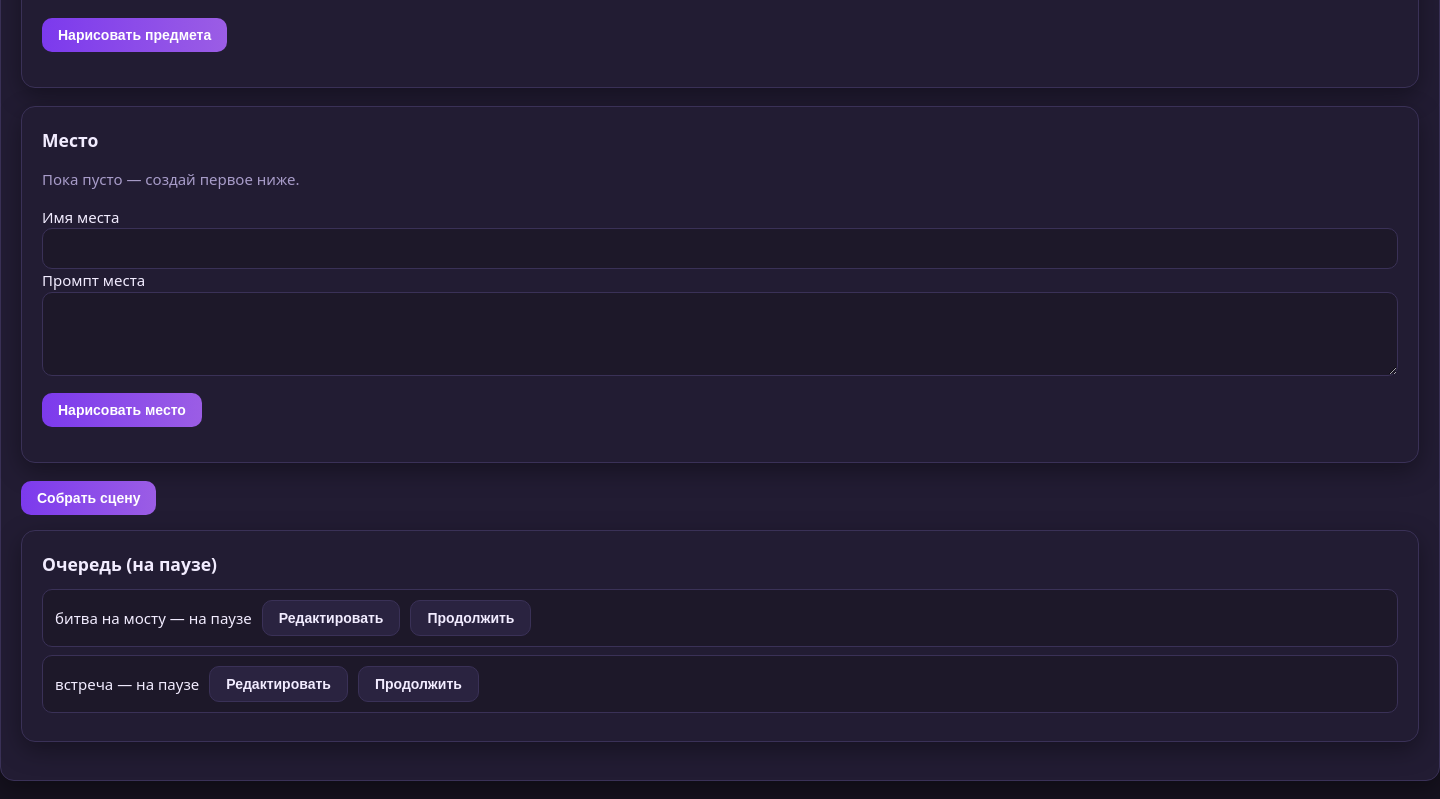
it: SceneComposer (cast + missing proposals + paused queue) › edits paused prompt and resumes generation after missing is drawn
The width and height of the screenshot is (1440, 799).
(page scrolled)
edit paused prompt
Click the button "Редактировать" in the row of "встреча" at point(279, 684), box [209,666,348,702]
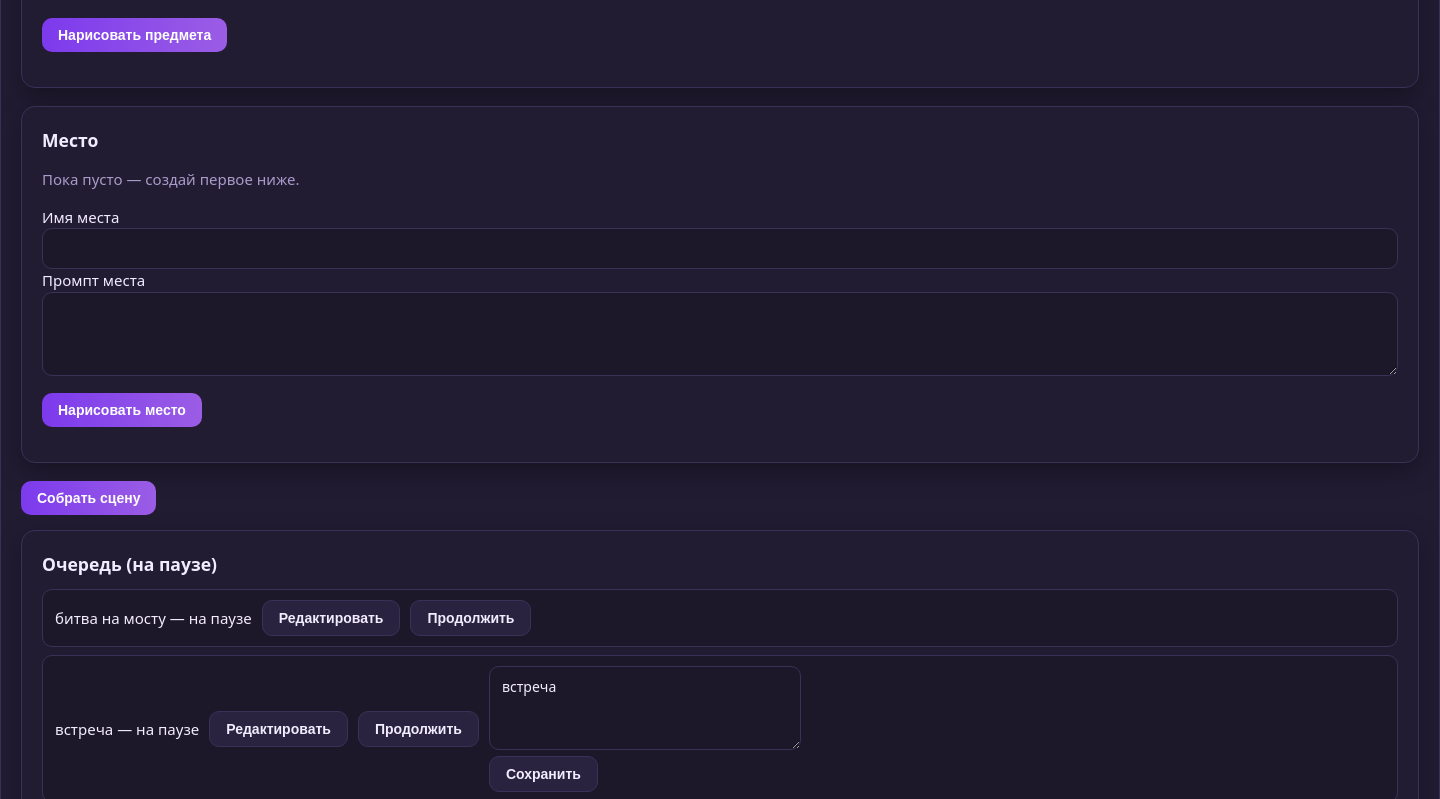
Replace the text in the text box named "редактировать промпт" with "встреча — ночь" at point(645, 708), box [489,666,801,750]
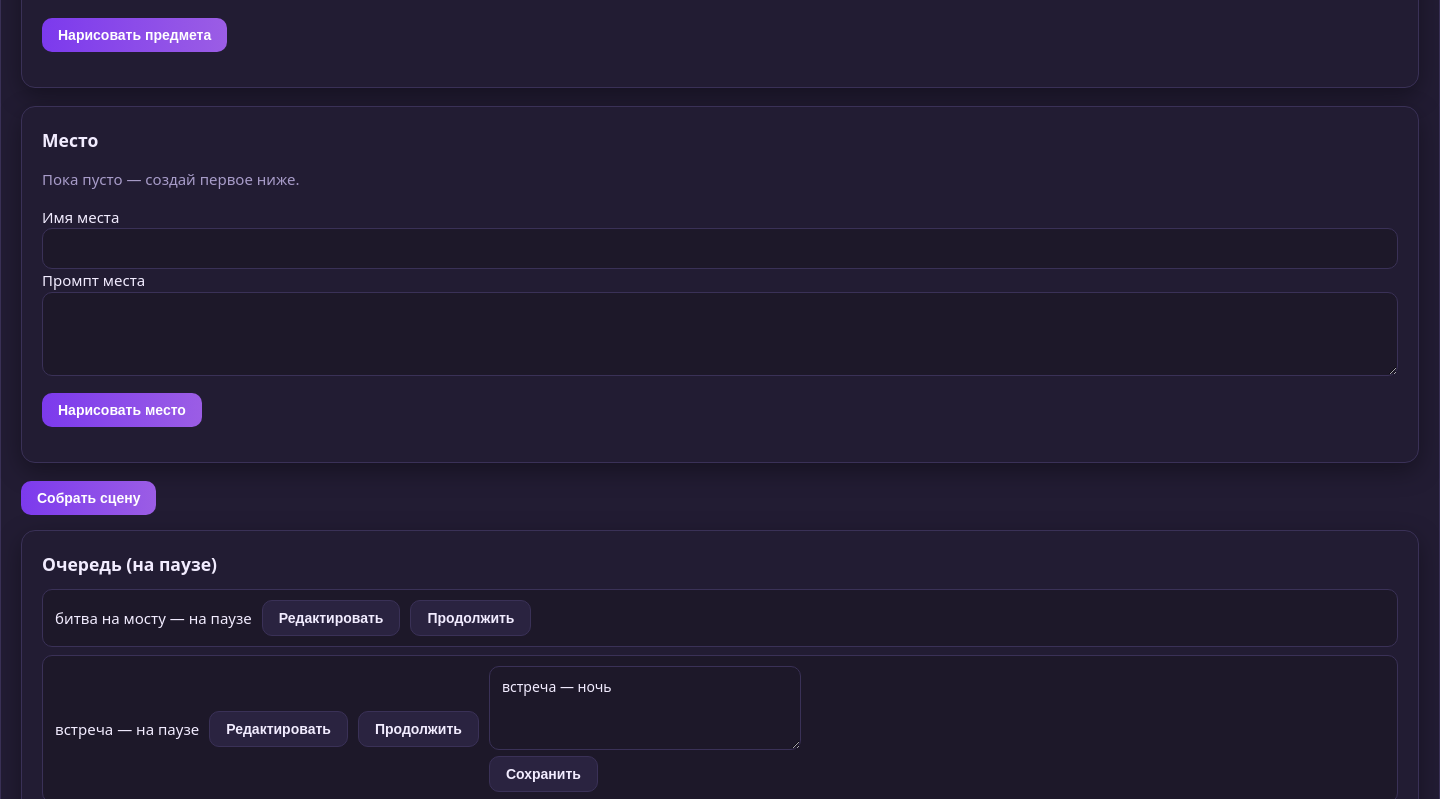
Click the button "Сохранить" at point(543, 774), box [489,756,598,792]
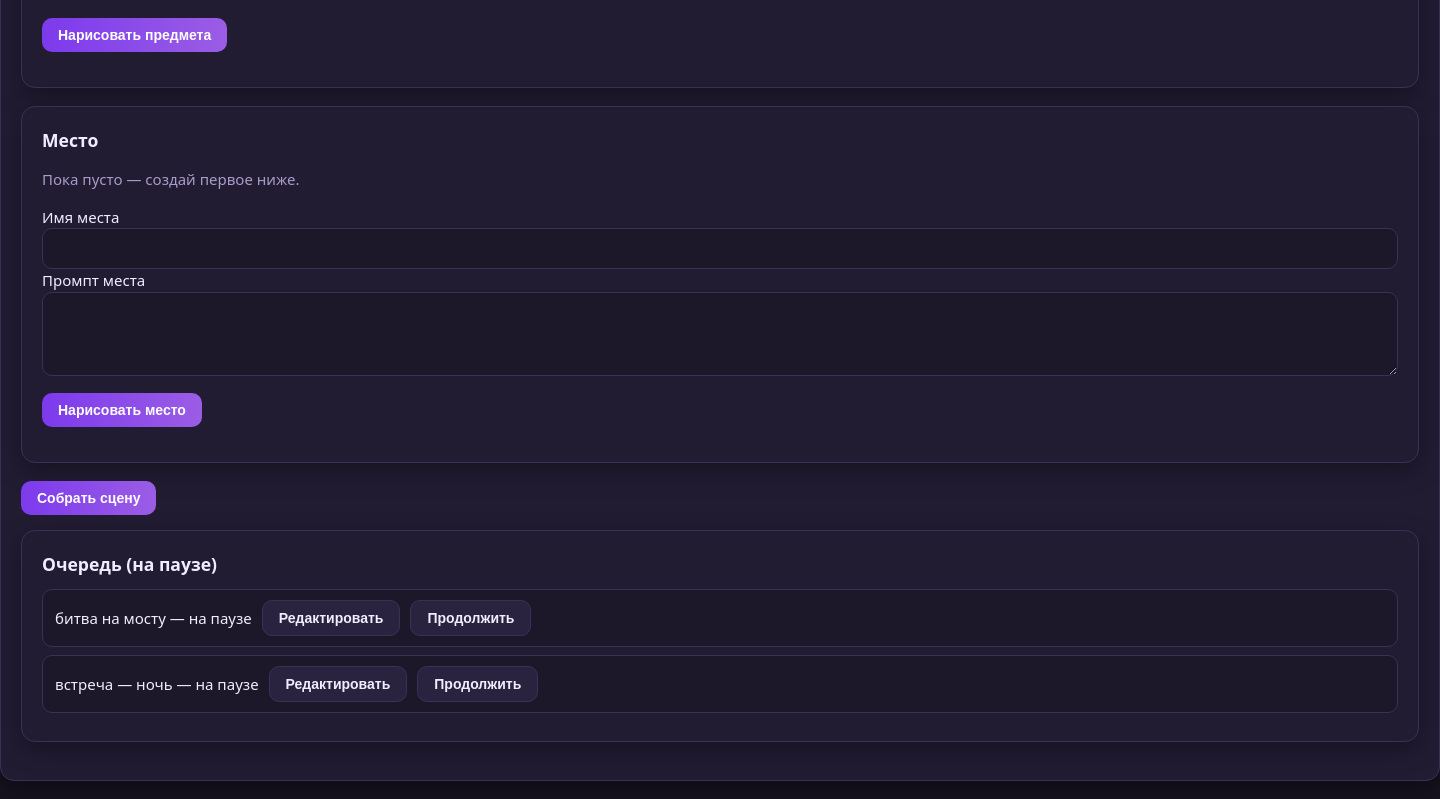
Result: the text "встреча — ночь — на паузе" is shown at [55,673,259,696]
Click the button "Продолжить" in the row of "встреча — ночь" at point(478, 684), box [417,666,538,702]
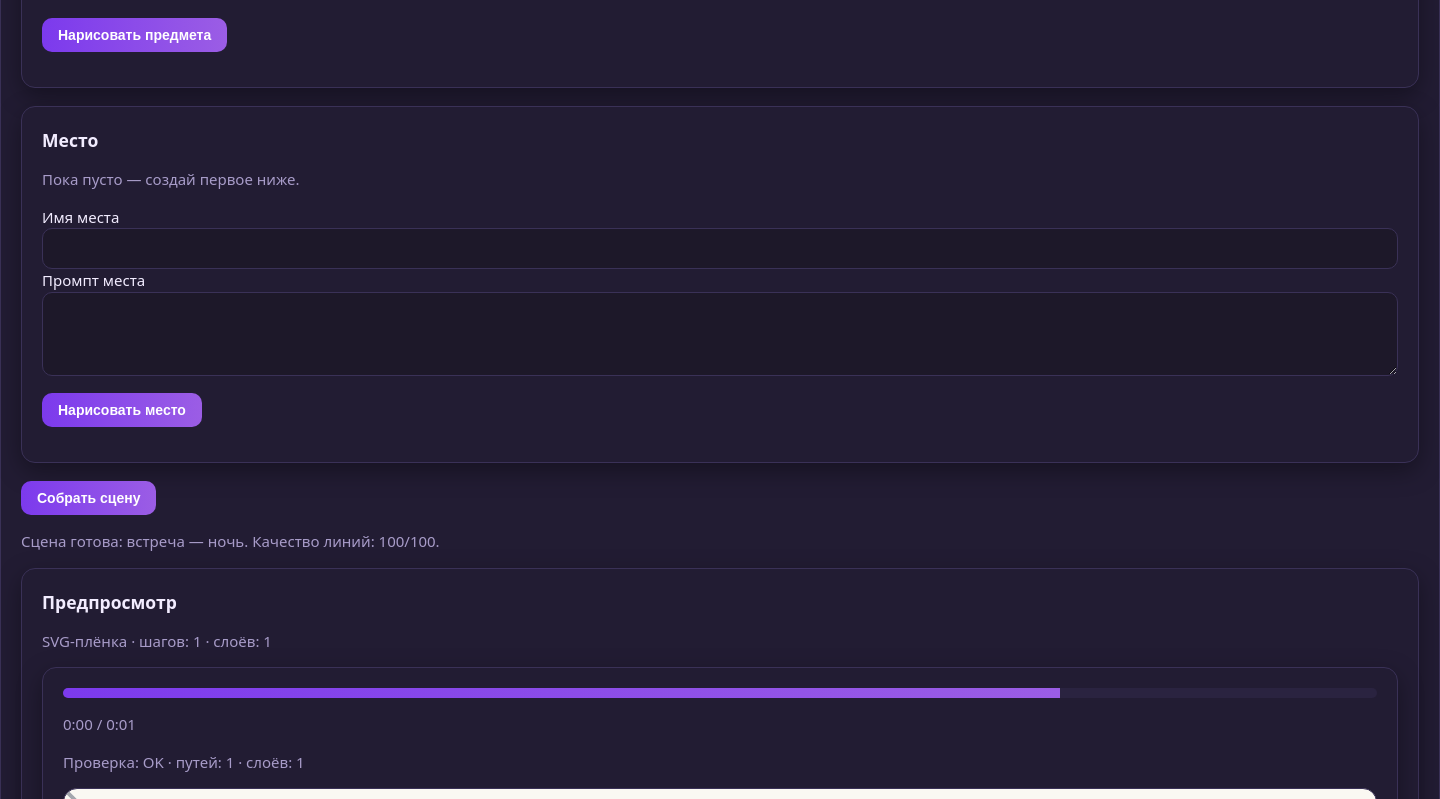
Result: the text "Сцена готова: встреча — ночь. Качество линий: 100/100." is shown at [21,531,440,551]
